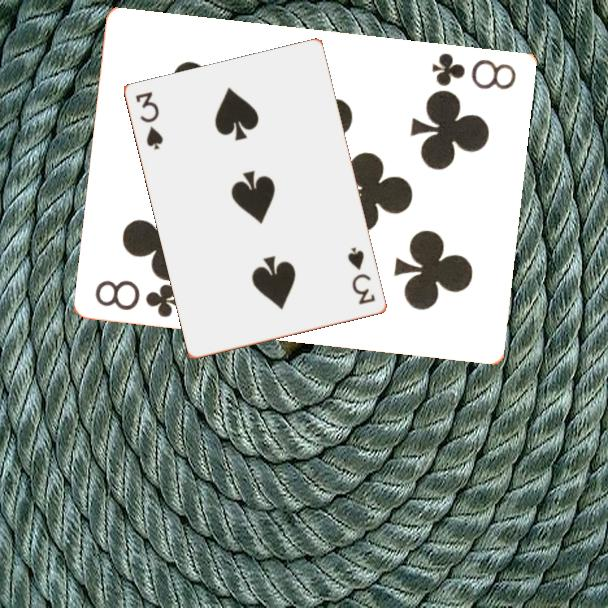c08: (428, 48, 520, 92), (92, 276, 183, 320)
s03: (132, 88, 166, 153), (345, 244, 379, 308)
